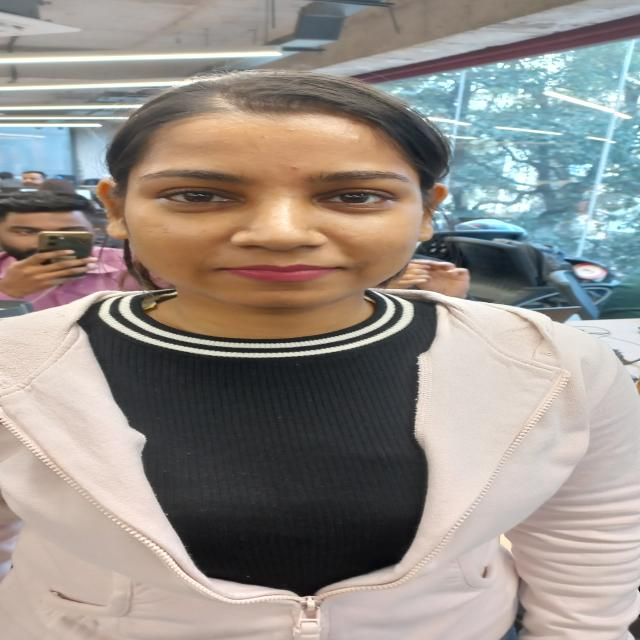Acne: (282, 162, 313, 173)
